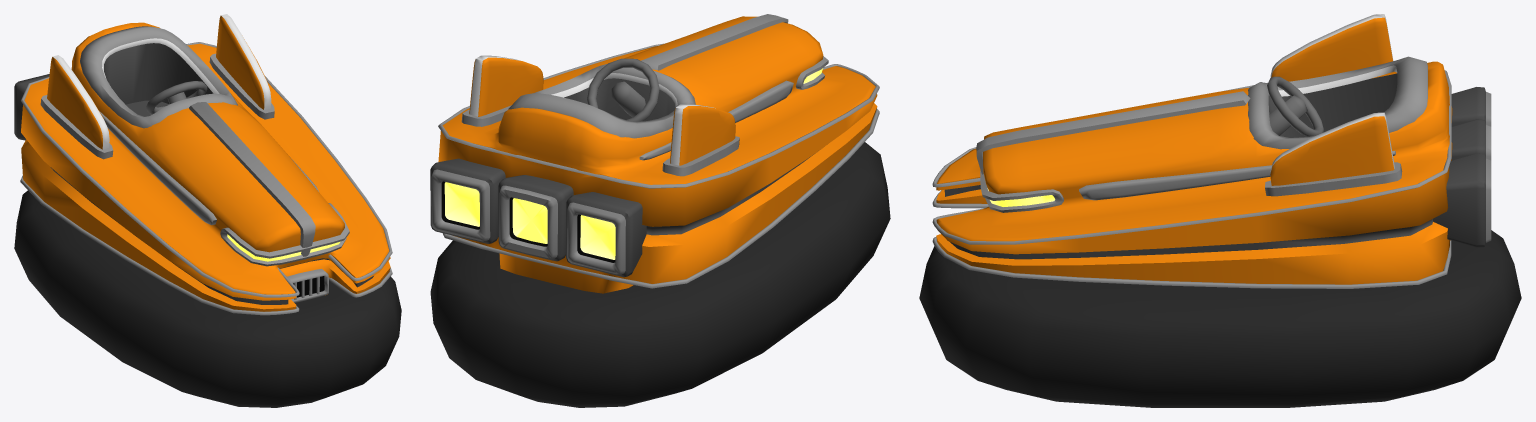
File: mesh_Car_InGame_O.fbx
The picture shows the model from 3 angles, left to right: view 1: azimuth 30°, elevation 25°; view 2: azimuth 150°, elevation 25°; view 3: azimuth 270°, elevation 25°; orthographic projection. The views are drawn at different scales.
Visible parts, largest first — view 1: mesh_Car_InGame_O; view 2: mesh_Car_InGame_O; view 3: mesh_Car_InGame_O.
Boxes of the visible parts, x1,y1,x2,y2 form: mesh_Car_InGame_O: (14, 14, 401, 407); mesh_Car_InGame_O: (430, 14, 890, 407); mesh_Car_InGame_O: (919, 14, 1521, 407).
Bounding box in the file's own units: 1.77 × 1.58 × 2.97.
